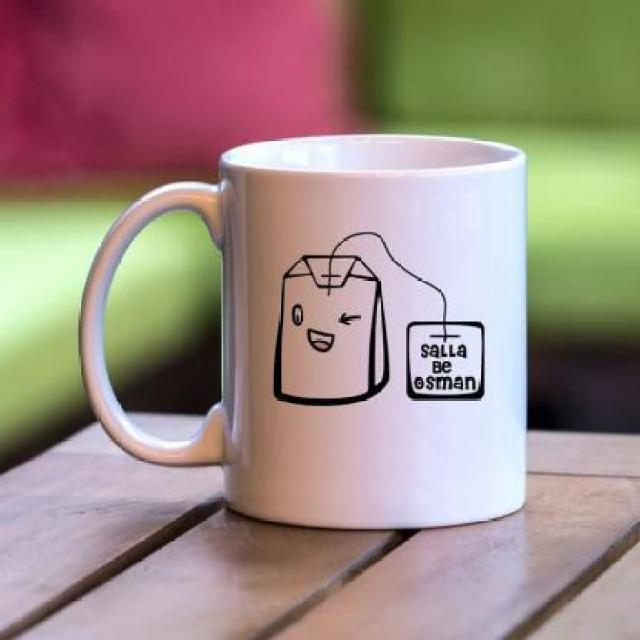taza: (75, 130, 538, 528)
